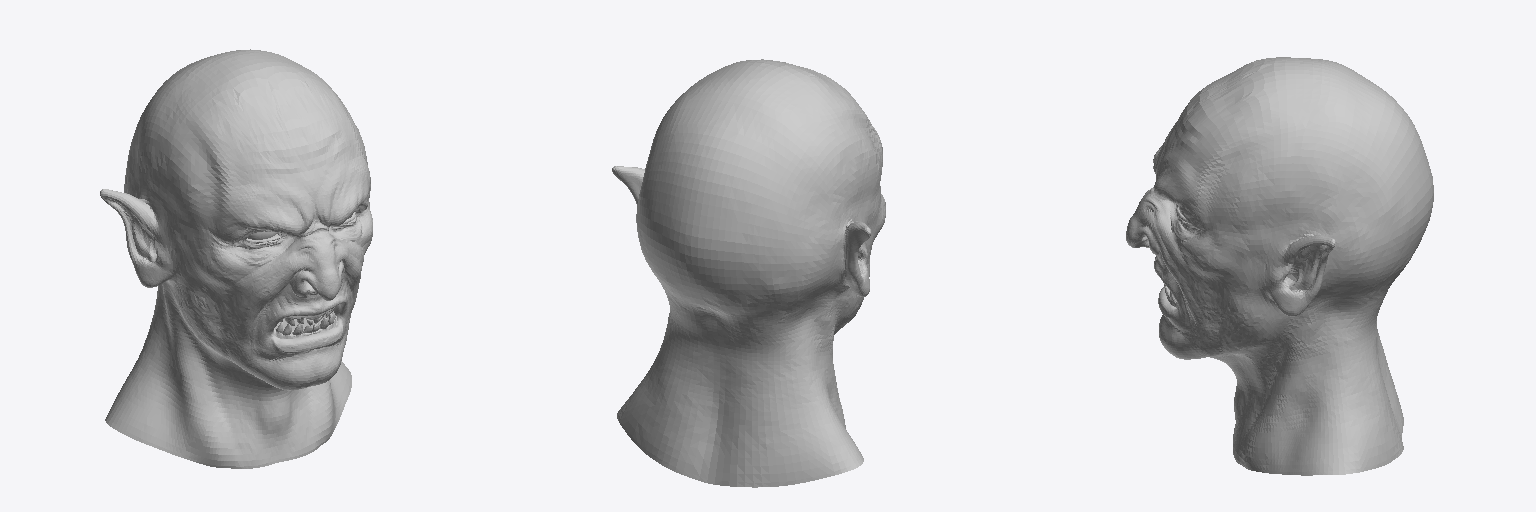
File: orc_84k_tri.obj
The picture shows the model from 3 angles: view 1: azimuth 30°, elevation 25°; view 2: azimuth 150°, elevation 25°; view 3: azimuth 270°, elevation 25°; orthographic projection.
Bounding box in the file's own units: 7.92 × 11.11 × 8.18.